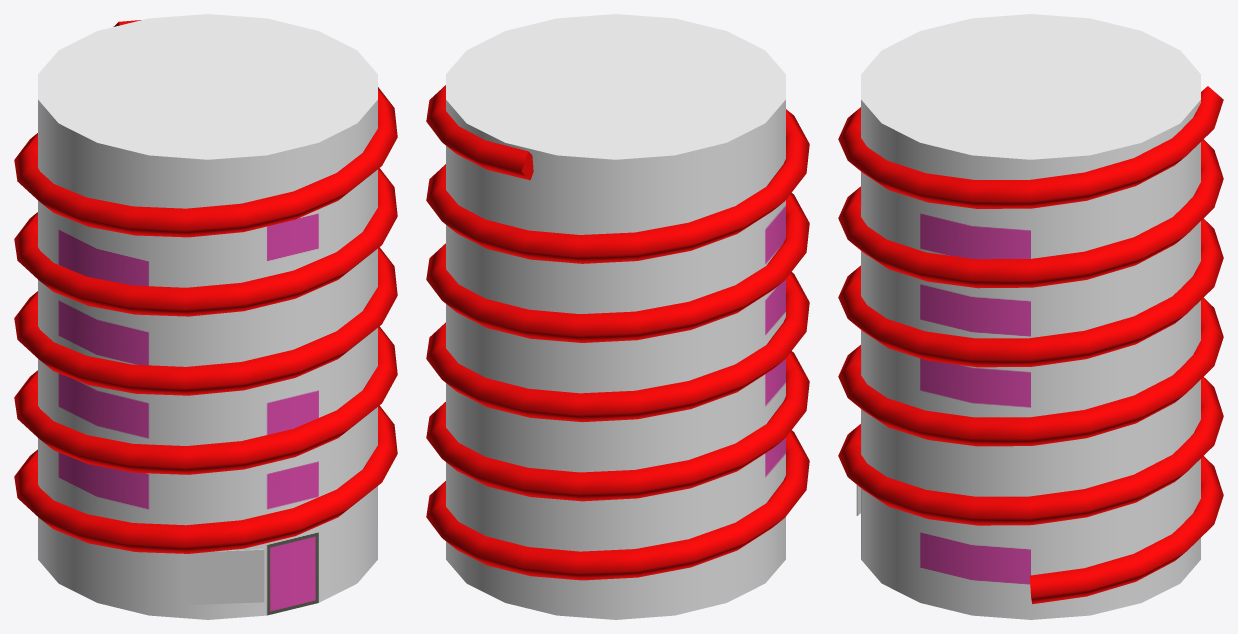
Rendered from Coil Building LP.FBX.
The picture shows the model from 3 angles, left to right: view 1: azimuth 30°, elevation 25°; view 2: azimuth 150°, elevation 25°; view 3: azimuth 270°, elevation 25°; orthographic projection.
Parts seen in each view (by area): view 1: Coil Building001, Spring002, Simple Spring Fever Sign; view 2: Coil Building001, Spring002; view 3: Coil Building001, Spring002.
Part boxes in pixels (<box>): Coil Building001: <box>38,14,377,619</box>; Spring002: <box>14,20,397,553</box>; Simple Spring Fever Sign: <box>181,549,264,605</box>; Coil Building001: <box>446,14,785,619</box>; Spring002: <box>426,85,809,580</box>; Coil Building001: <box>861,14,1200,619</box>; Spring002: <box>838,86,1223,604</box>.
Size of the model in its own units: 101 by 133 by 101.
Materials: 2 (1 with a texture image).
